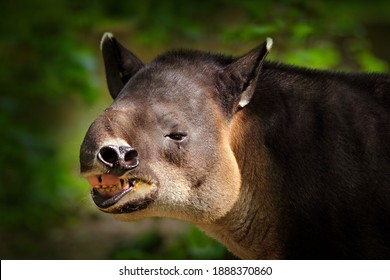Anta: (74, 27, 379, 251)
